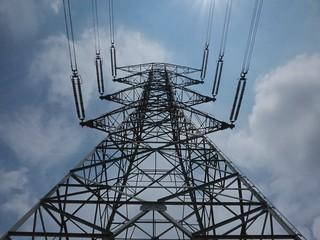power_tower: (6, 59, 302, 240)
